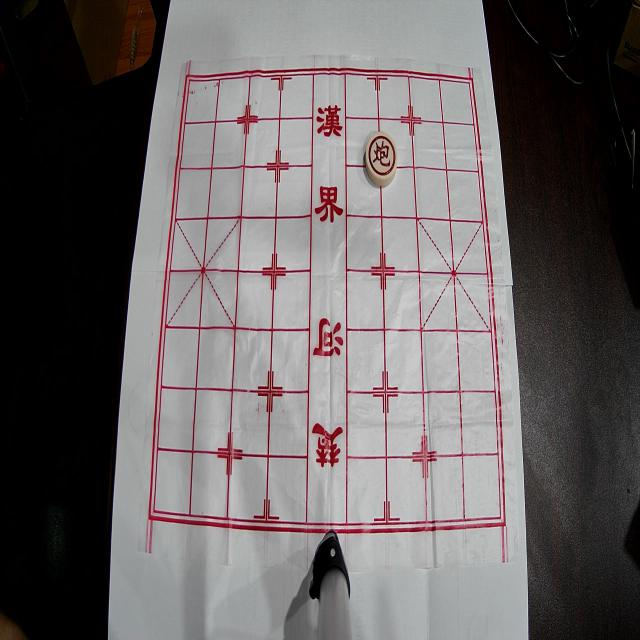red-cannon: (366, 132, 398, 186)
